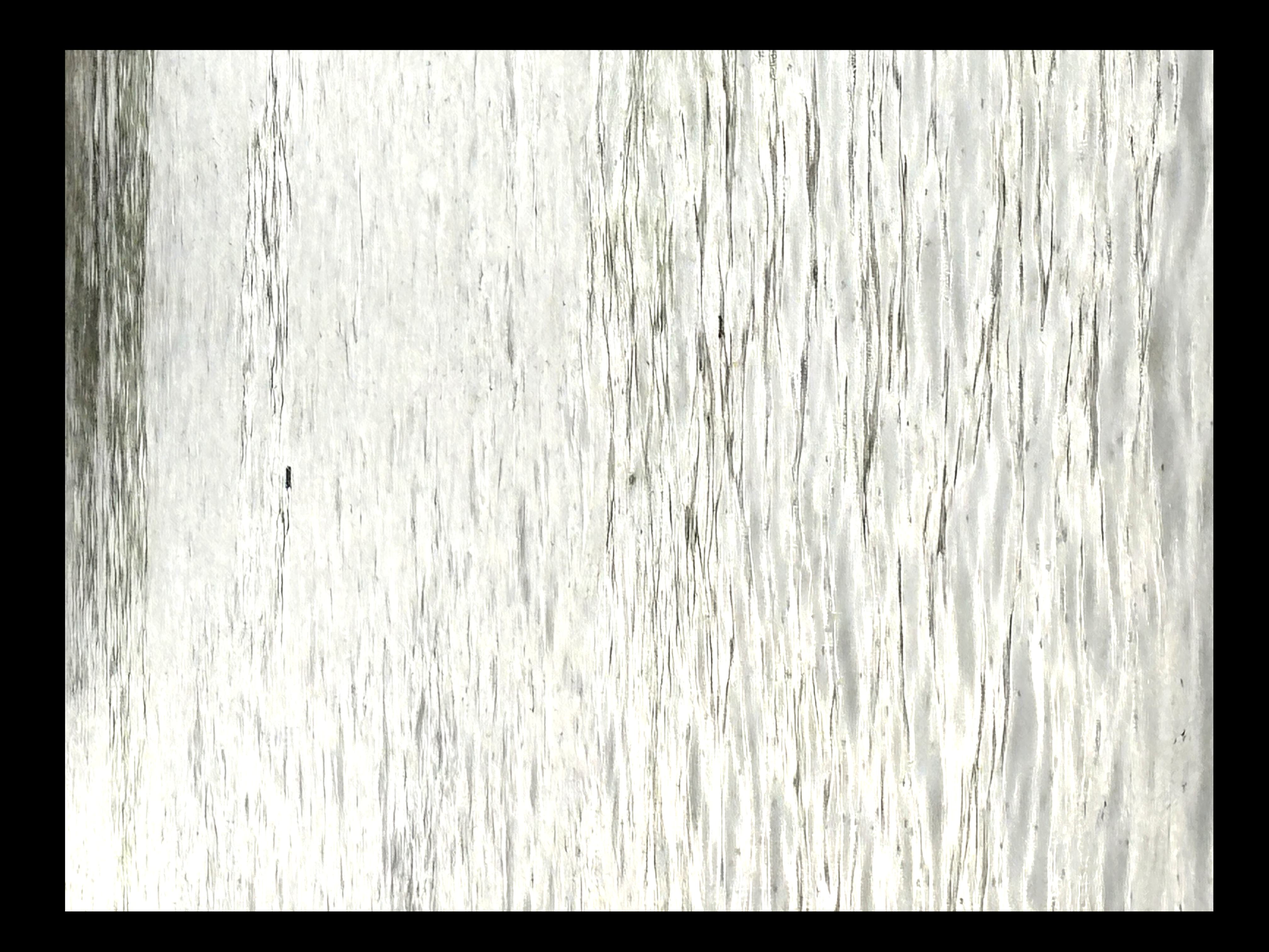Natural wastes: (300, 451, 315, 477)
